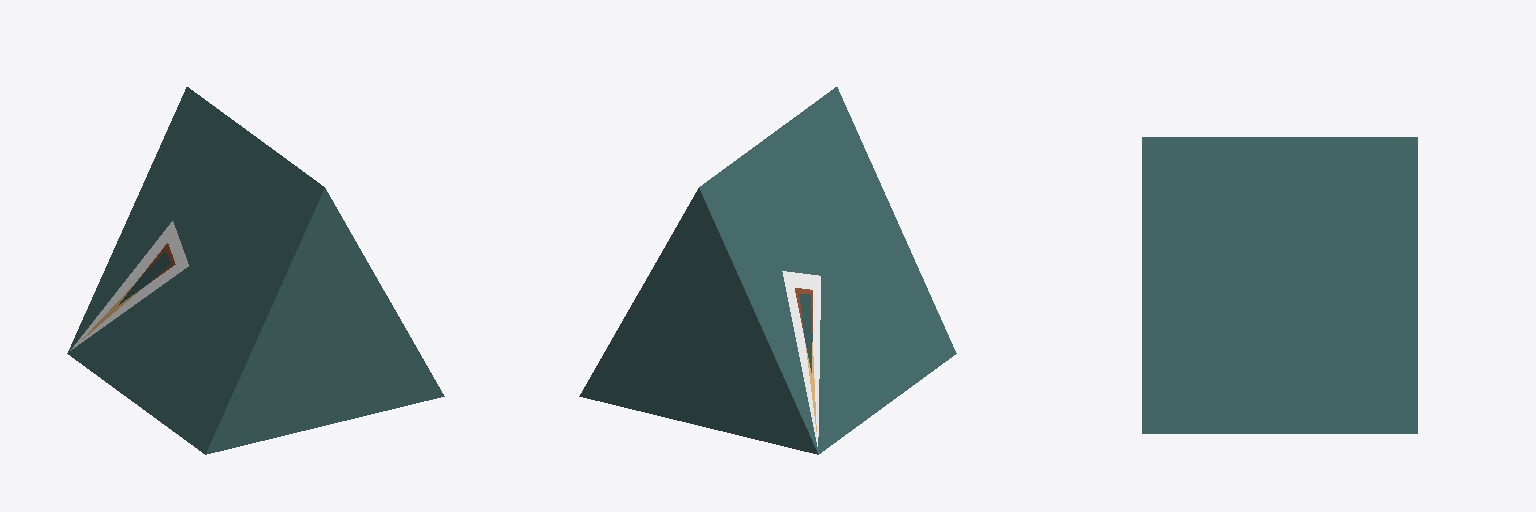
The picture shows the model from 3 angles: view 1: azimuth 30°, elevation 25°; view 2: azimuth 150°, elevation 25°; view 3: azimuth 270°, elevation 25°; orthographic projection.
Visible parts, largest first — view 1: Mesh1 Tent Model; view 2: Mesh1 Tent Model; view 3: Mesh1 Tent Model.
Part boxes in pixels (x1,y1,x2,y2): Mesh1 Tent Model: (67,87,444,454); Mesh1 Tent Model: (579,87,956,454); Mesh1 Tent Model: (1142,137,1417,433).
Bounding box in the file's own units: 3 × 2.85 × 3.
Materials: 1 (1 with a texture image).